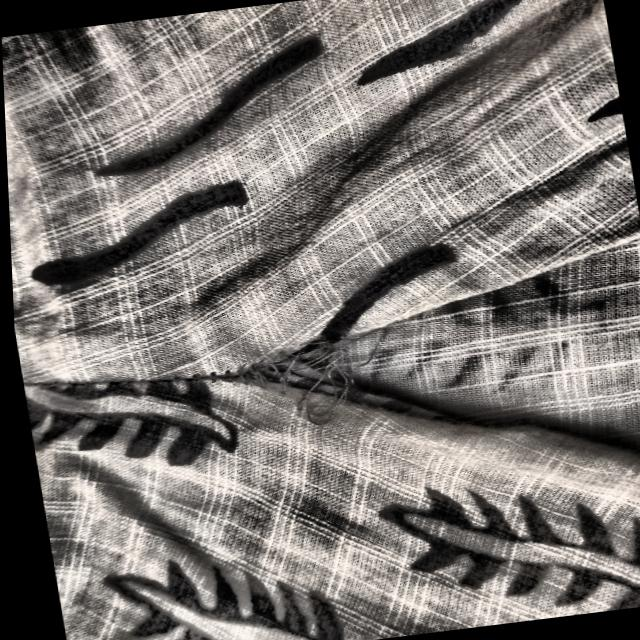Stitch: (188, 308, 421, 444)
